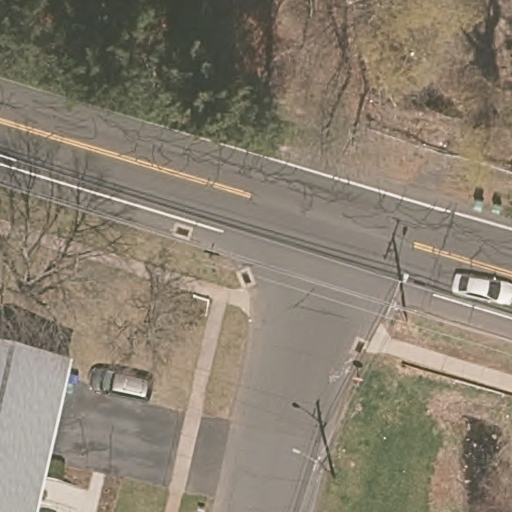DT: (387, 275, 407, 320), (314, 457, 338, 483)
